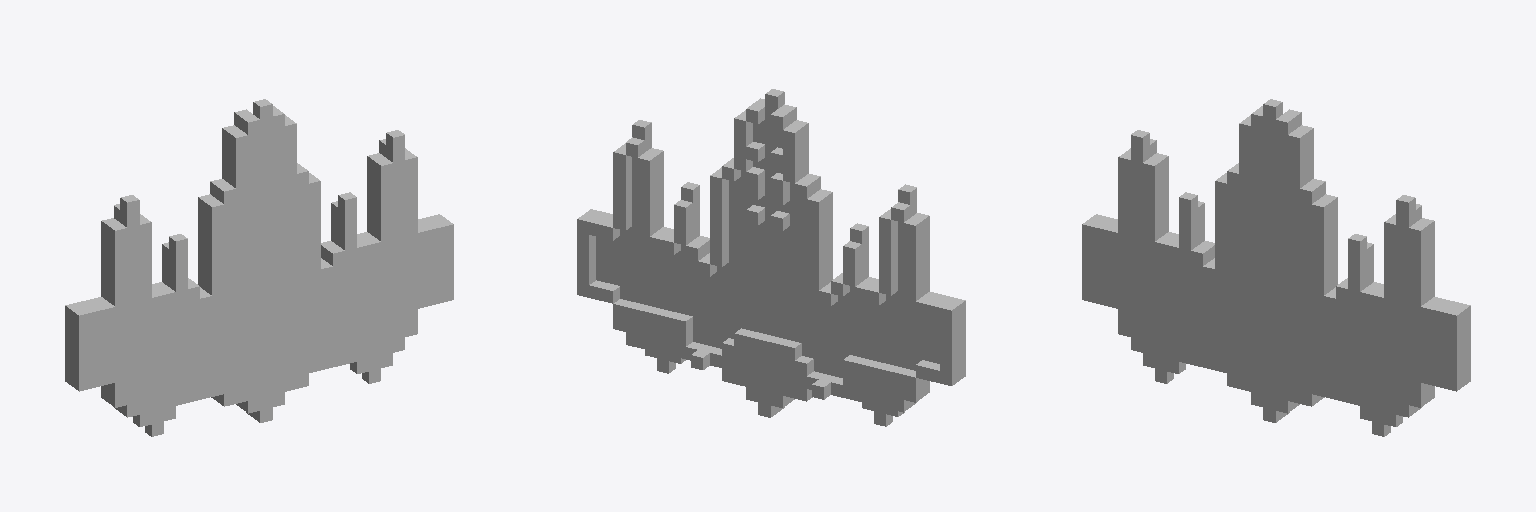
Rendered from Vaisseau Enemy.obj.
3 views of the same model, side by side, from view 1: azimuth 30°, elevation 25°; view 2: azimuth 150°, elevation 25°; view 3: azimuth 330°, elevation 25° (orthographic).
Visible parts, largest first — view 1: Vaisseau Enemy; view 2: Vaisseau Enemy; view 3: Vaisseau Enemy.
Boxes of the visible parts, box(x1,y1,x2,y2) form: Vaisseau Enemy: box(65, 99, 453, 436); Vaisseau Enemy: box(577, 89, 965, 426); Vaisseau Enemy: box(1082, 99, 1470, 436).
Size of the model in its own units: 31 by 25 by 3.